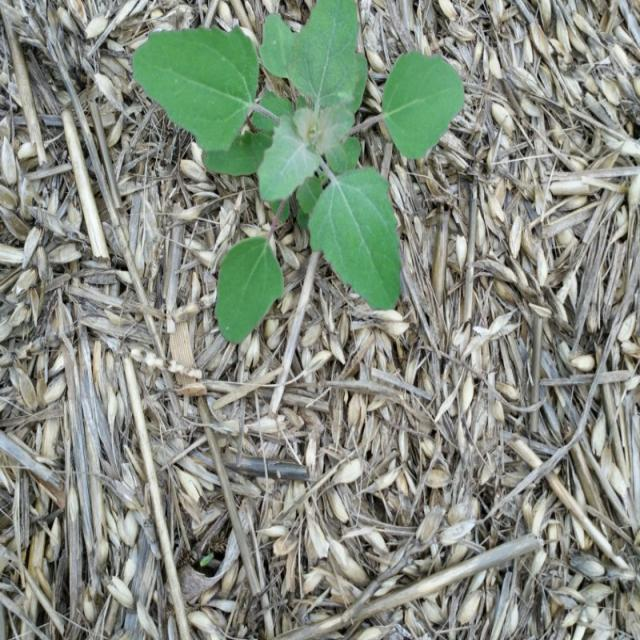goosefoots: (141, 0, 470, 336)
